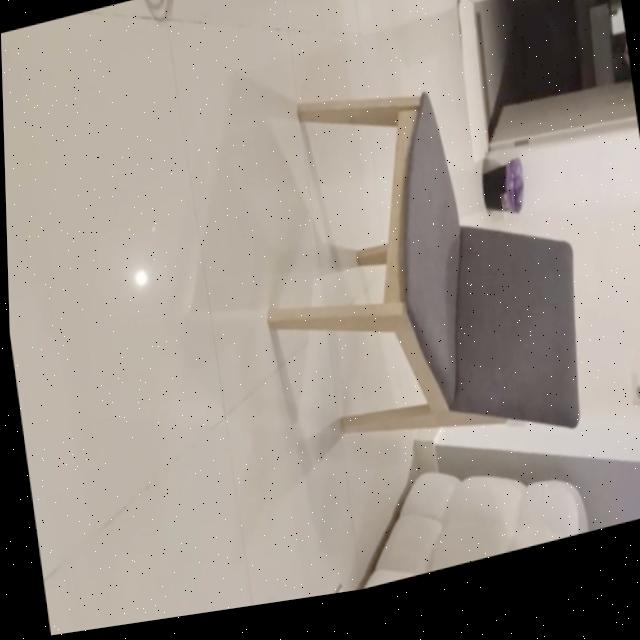sandalye: (265, 103, 576, 443)
